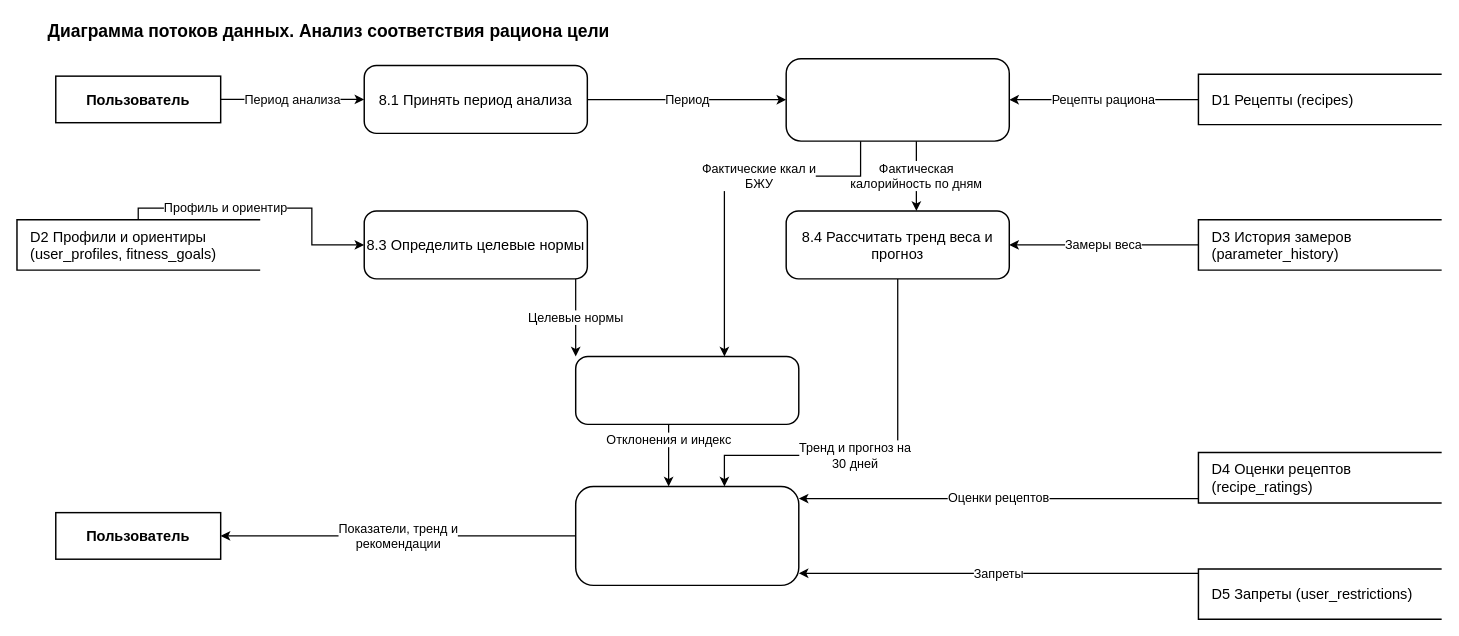
Image size: 1459x636. Some labels were removed from this diagram. The box of each missing label's shape, as (x1, y1, x2, y2) in pixels:
8.2 Рассчитать фактические ккал и БЖУ: (785, 58, 1010, 141)
8.5 Рассчитать отклонения и индекс соответствия: (575, 355, 799, 425)
8.6 Сформировать рекомендации: (575, 485, 799, 586)
